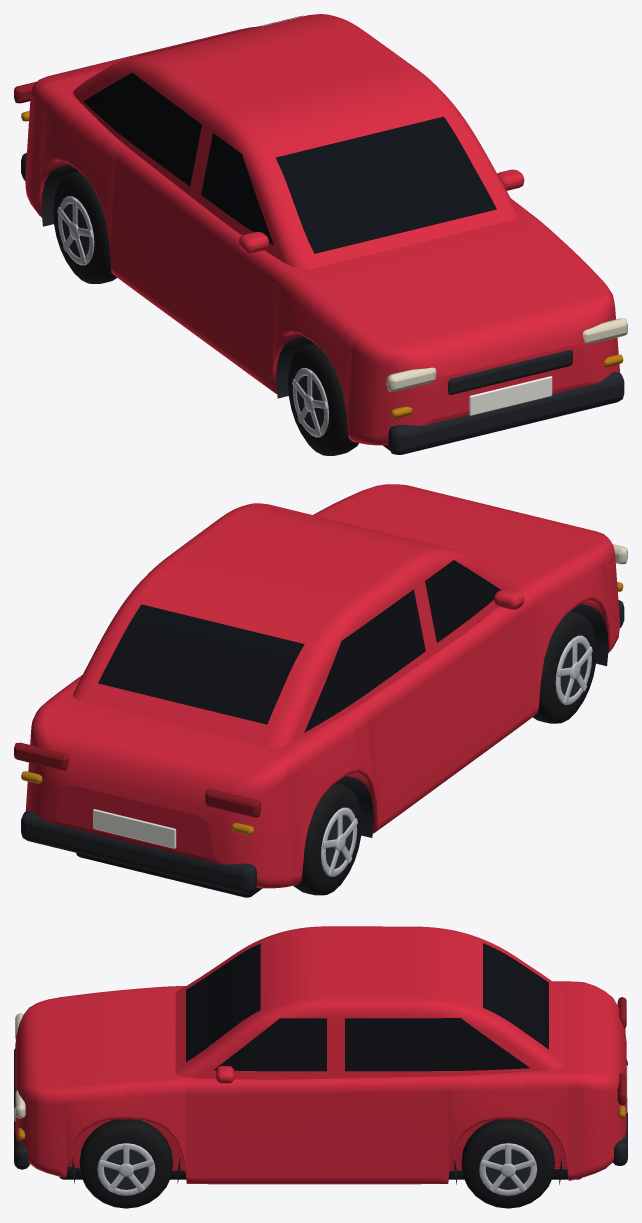
Rendered from car-red.glb.
3 views of the same model, one above another, from view 1: azimuth 30°, elevation 25°; view 2: azimuth 150°, elevation 25°; view 3: azimuth 270°, elevation 25° (orthographic). The views are drawn at different scales.
Parts seen in each view (by area): view 1: body, cabin, glass, bumper_f, wheel_fr_tyre, wheel_rr_tyre, wheelhouses, plate_f, wheel_rr_rim, wheel_fr_rim, light_head_r, light_head_l (+2 smaller); view 2: body, cabin, glass, bumper_r, wheel_rr_tyre, wheel_fr_tyre, wheelhouses, plate_r, wheel_fr_rim, wheel_rr_rim, light_tail_r, light_tail_l (+3 smaller); view 3: body, cabin, glass, wheel_rl_tyre, wheel_fl_tyre, wheel_fl_rim, wheel_rl_rim, wheel_fl_disc, wheel_rl_disc, underbody, bumper_f, bumper_r.
Boxes of the visible parts, box(x1,y1,x2,y2) form: body: box(25, 26, 619, 445); cabin: box(73, 14, 517, 269); glass: box(84, 15, 496, 253); bumper_f: box(388, 350, 624, 454); wheel_fr_tyre: box(288, 343, 358, 455); wheel_rr_tyre: box(53, 171, 116, 283); wheelhouses: box(41, 164, 313, 398); plate_f: box(469, 376, 552, 415); wheel_rr_rim: box(57, 196, 94, 265); wheel_fr_rim: box(292, 368, 328, 437); light_head_r: box(386, 367, 436, 391); light_head_l: box(582, 318, 627, 343); body: box(25, 484, 620, 888); cabin: box(73, 503, 517, 747); glass: box(98, 560, 500, 732); bumper_r: box(21, 811, 256, 893); wheel_rr_tyre: box(293, 782, 361, 895); wheel_fr_tyre: box(533, 610, 596, 723); wheelhouses: box(336, 604, 608, 837); plate_r: box(93, 809, 176, 848); wheel_fr_rim: box(555, 635, 592, 704); wheel_rr_rim: box(321, 807, 357, 876); light_tail_r: box(205, 789, 260, 817); light_tail_l: box(14, 742, 69, 770); body: box(15, 981, 626, 1184); cabin: box(175, 926, 562, 1079); glass: box(186, 943, 548, 1071); wheel_rl_tyre: box(461, 1119, 554, 1208); wheel_fl_tyre: box(79, 1119, 172, 1208); wheel_fl_rim: box(97, 1143, 155, 1195); wheel_rl_rim: box(479, 1143, 537, 1195); wheel_fl_disc: box(104, 1149, 148, 1189); wheel_rl_disc: box(485, 1149, 530, 1189); underbody: box(59, 1166, 581, 1179); bumper_f: box(14, 1048, 29, 1169); bumper_r: box(613, 1059, 627, 1165).
Bounding box in the file's own units: 1.75 × 1.45 × 4.1.
